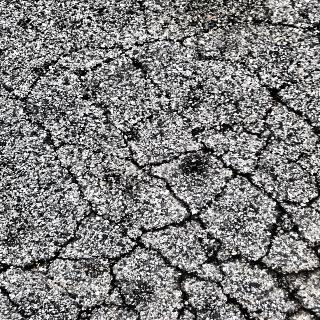alligator-crack: (70, 122, 320, 320)
